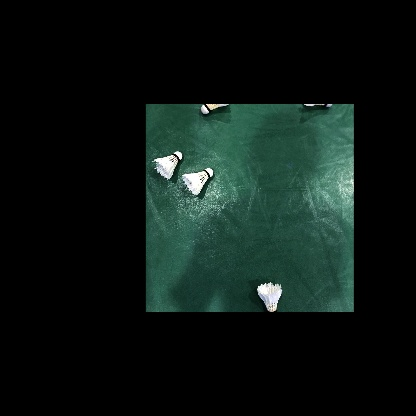ball_single: (152, 151, 182, 180), (182, 168, 213, 195), (257, 282, 282, 312), (201, 104, 229, 115)
